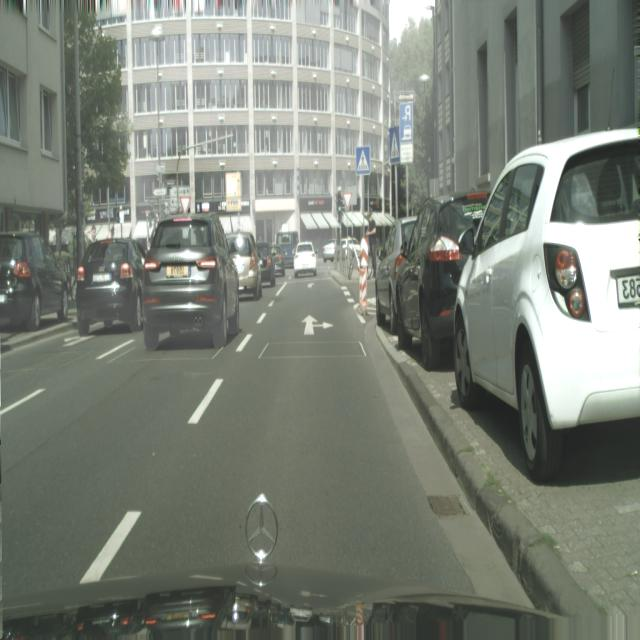bus: (368, 212, 377, 279)
person: (453, 127, 640, 480), (396, 191, 488, 368), (141, 212, 241, 351), (0, 232, 70, 331), (76, 238, 145, 336), (374, 216, 418, 335), (225, 232, 263, 300), (256, 241, 276, 286), (293, 241, 317, 278), (272, 246, 286, 278), (322, 240, 337, 262)
